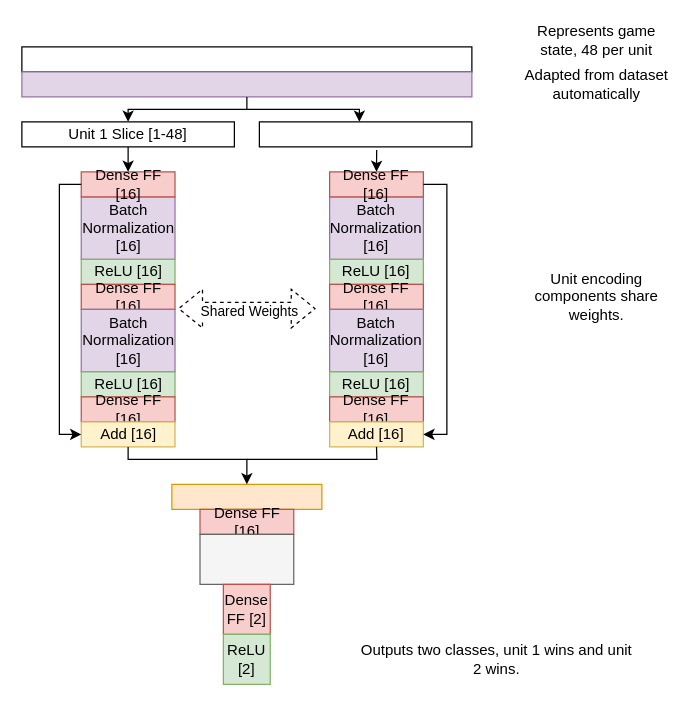
This 694x706 diagram has some shape labels left out. Each missing label, with the centre of its shape:
"20% Dropout [16]" goes at point 246,558.
"Concatenate [32]" goes at point 246,496.
"Input Layer [96]" goes at point 246,59.
"Normalization Layer [96]" goes at point 246,84.
"Unit 2 Slice [49-96]" goes at point 365,134.
